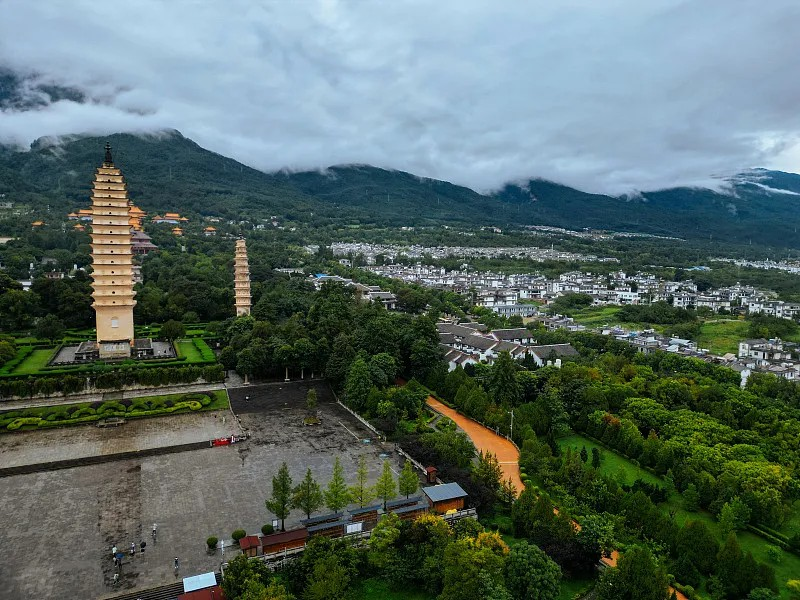ThreePagoda: (89, 143, 138, 345)
